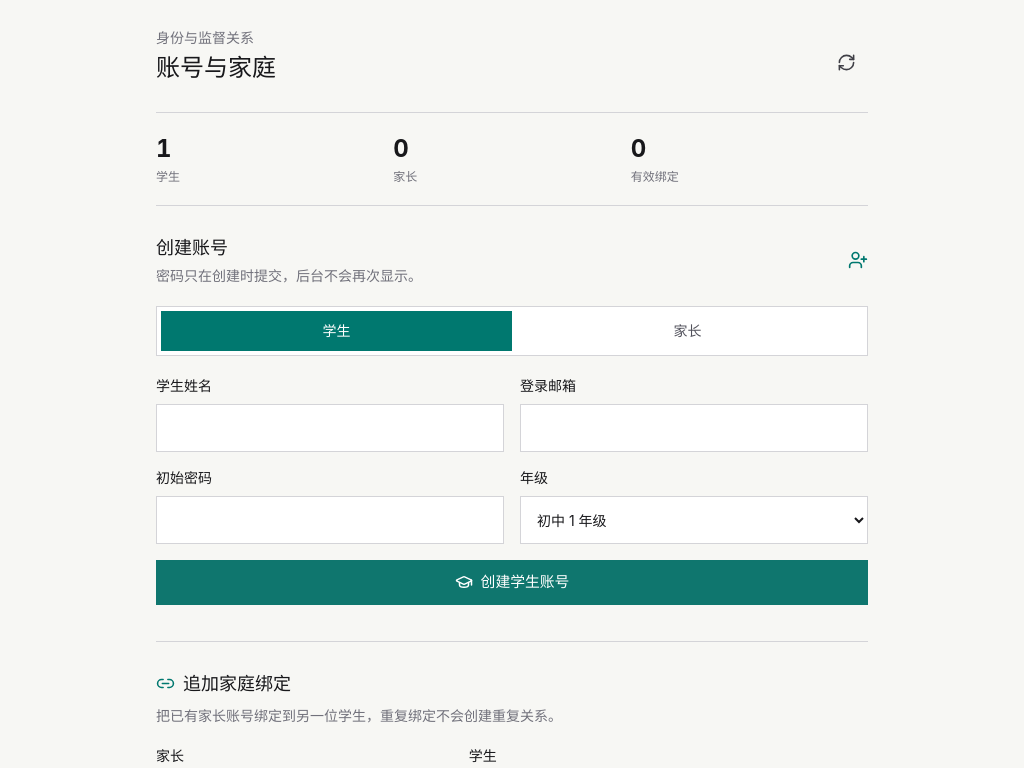
Test case: creates a student account without rendering the submitted password
This screenshot has width=1024, height=768.
Step 1. Type "新同学" into the field named "student-display-name" → (330, 428), box top-left (156, 404), bottom-right (504, 452)
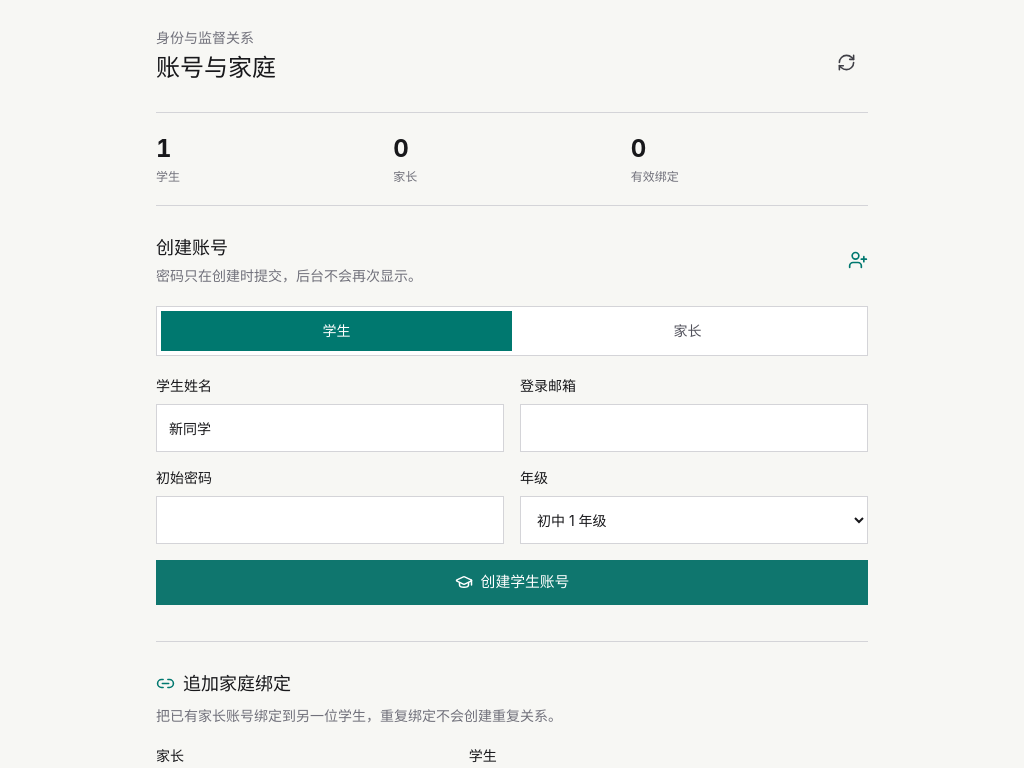
Step 2. Type "new.student@example.test" into the field named "student-email" → (694, 428), box top-left (520, 404), bottom-right (868, 452)
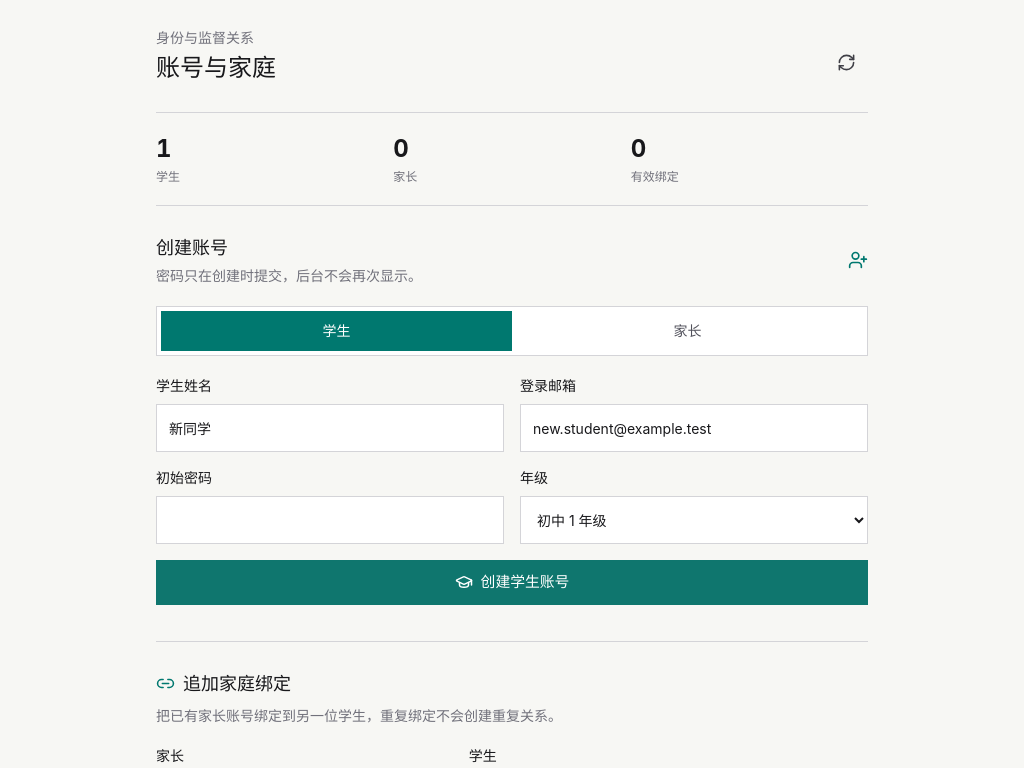
Step 3. Type "Student password 2026!" into the password field named "student-password" → (330, 520), box top-left (156, 496), bottom-right (504, 544)
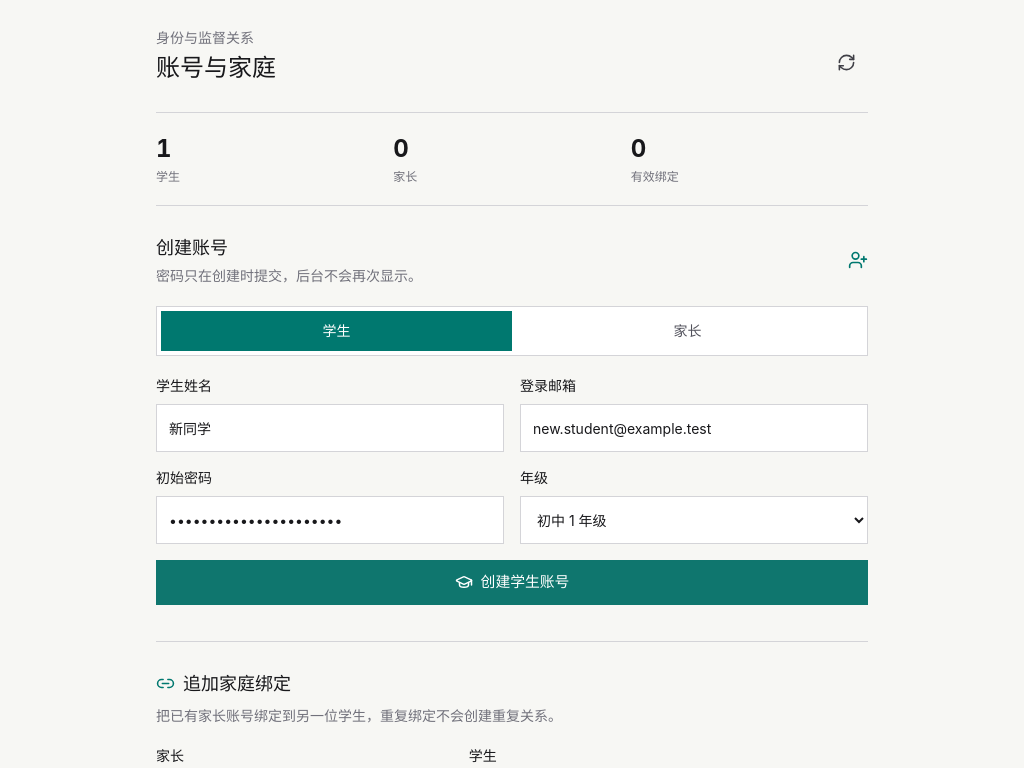
Step 4. Select "小学 6 年级" in the dropdown named "student-grade" → (694, 520), box top-left (520, 496), bottom-right (868, 544)
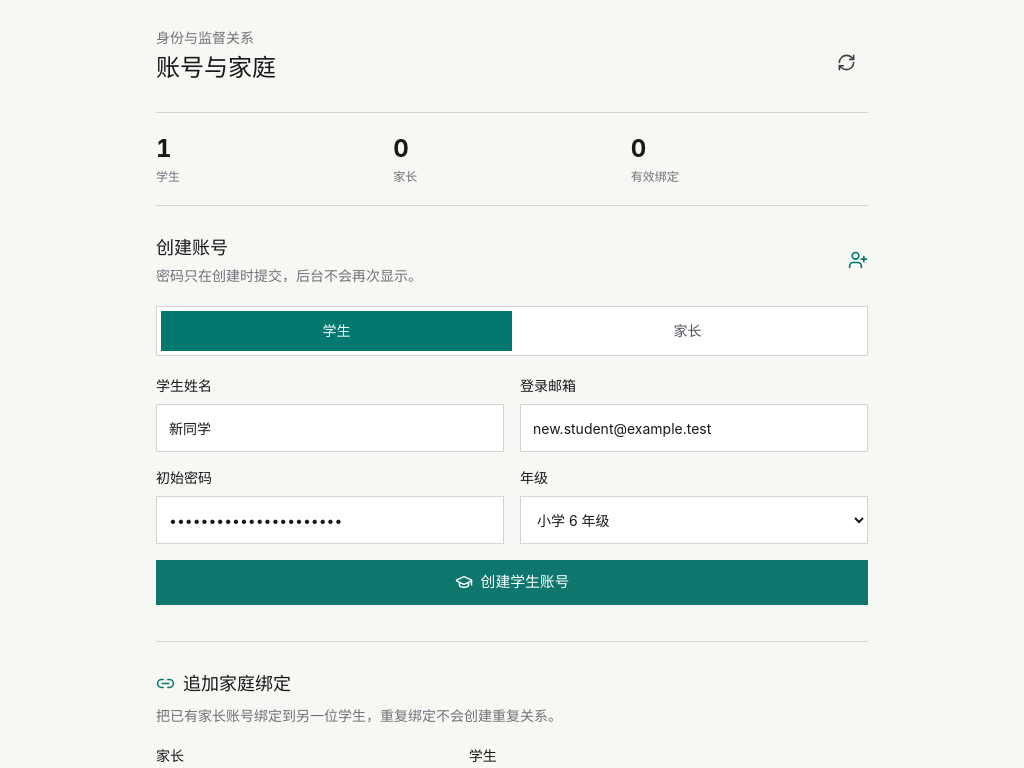
Step 5. Submit the form "学生姓名 登录邮箱 初始密码 年级 创建学生账号", box top-left (156, 376), bottom-right (868, 605)
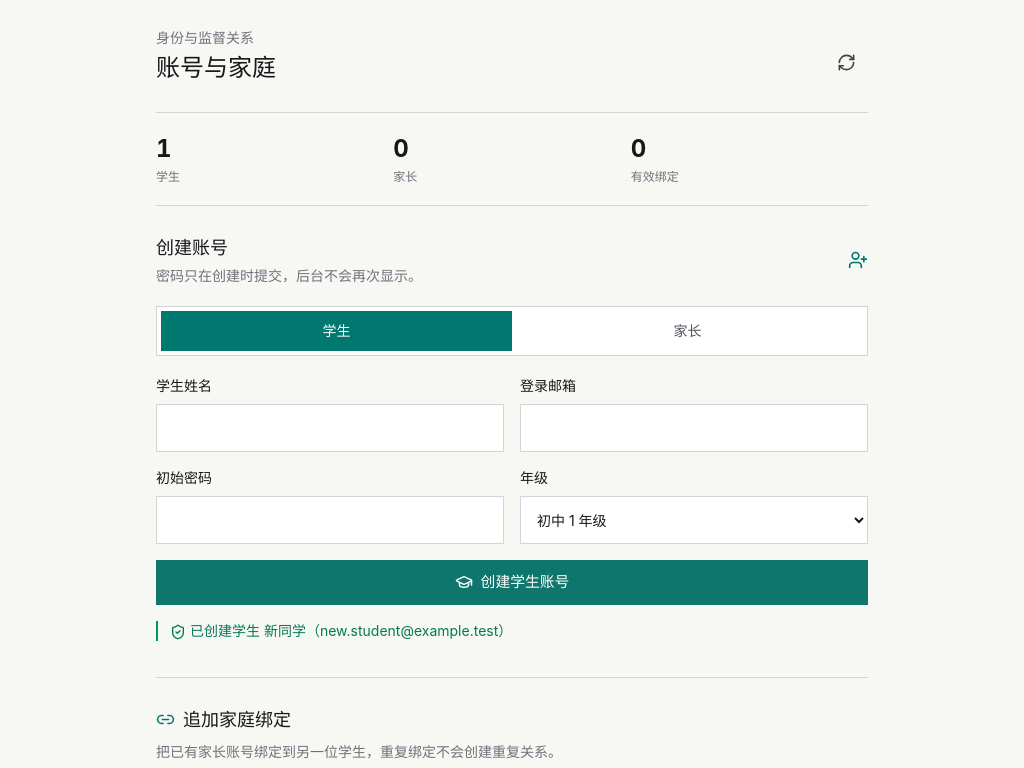
expect the text "已创建学生 新同学" is shown: met, box top-left (190, 622), bottom-right (512, 639)
